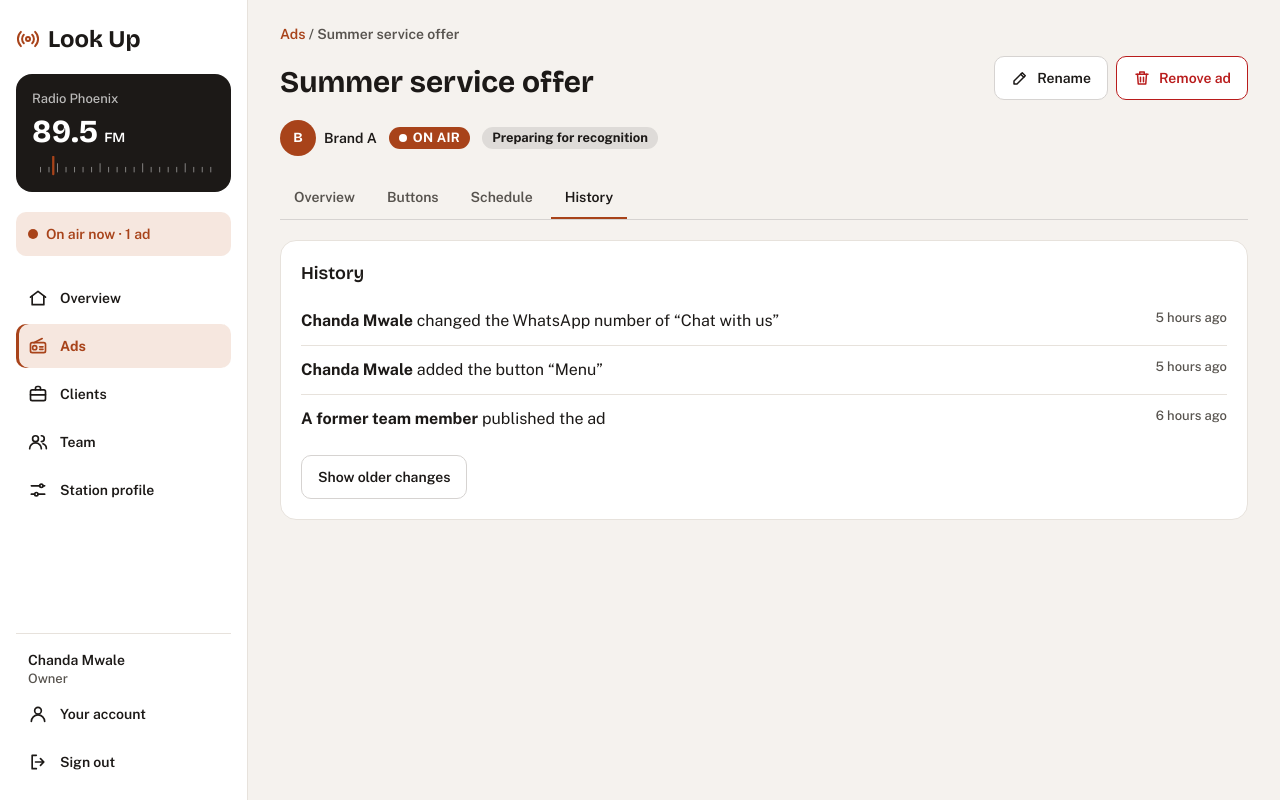
Test: Ad page › history tab › lists what happened as sentences with who did it, and offers older changes a page at a time
expect the 2nd list item shows "Chanda Mwale changed the WhatsApp number of “Chat with us”": met, box [301,297,1227,346]
expect the list item "Chanda Mwale added the button “Menu” 5 hours ago" is shown: met, box [301,346,1227,395]
Click the button "Show older changes" at [384, 477], box [301,455,467,499]
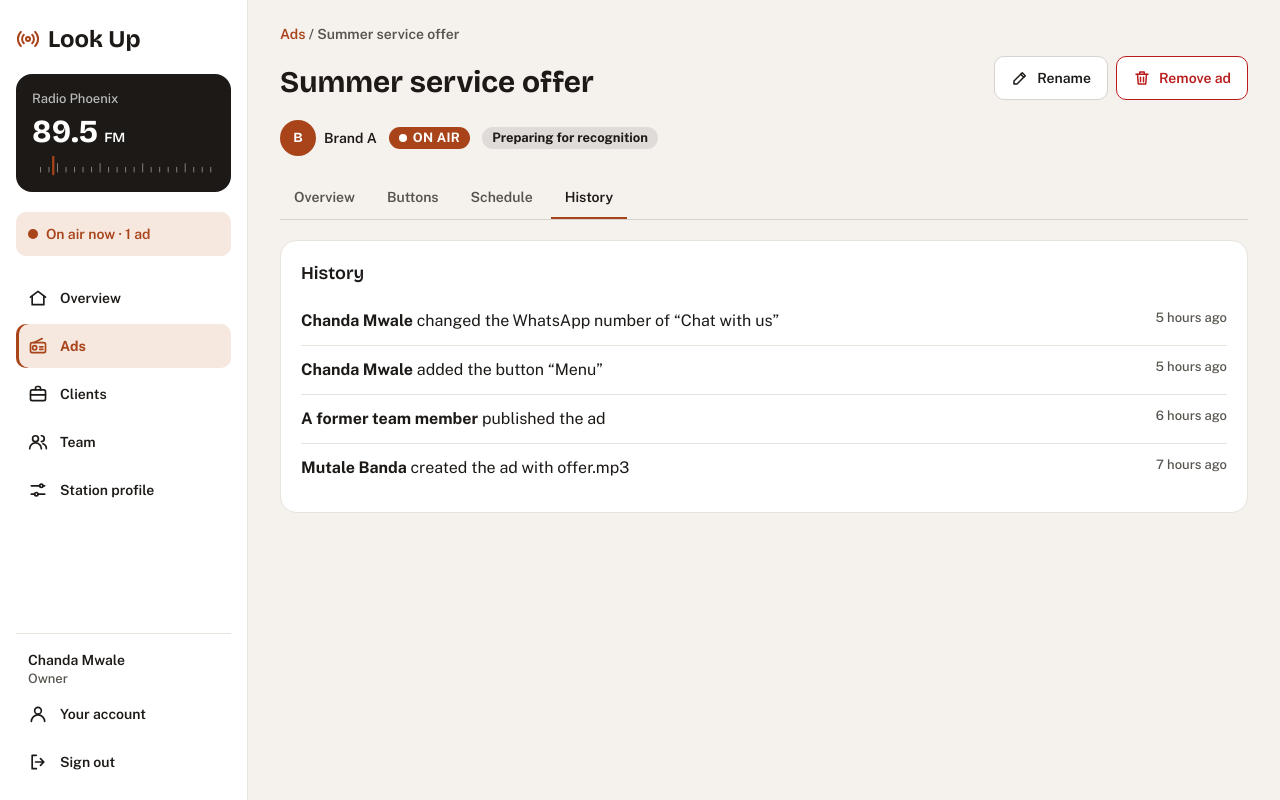
expect the list item "Mutale Banda created the ad with offer.mp3 7 hours ago" is shown: met, box [301,457,1227,477]
expect the button "Show older changes" is gone: met
